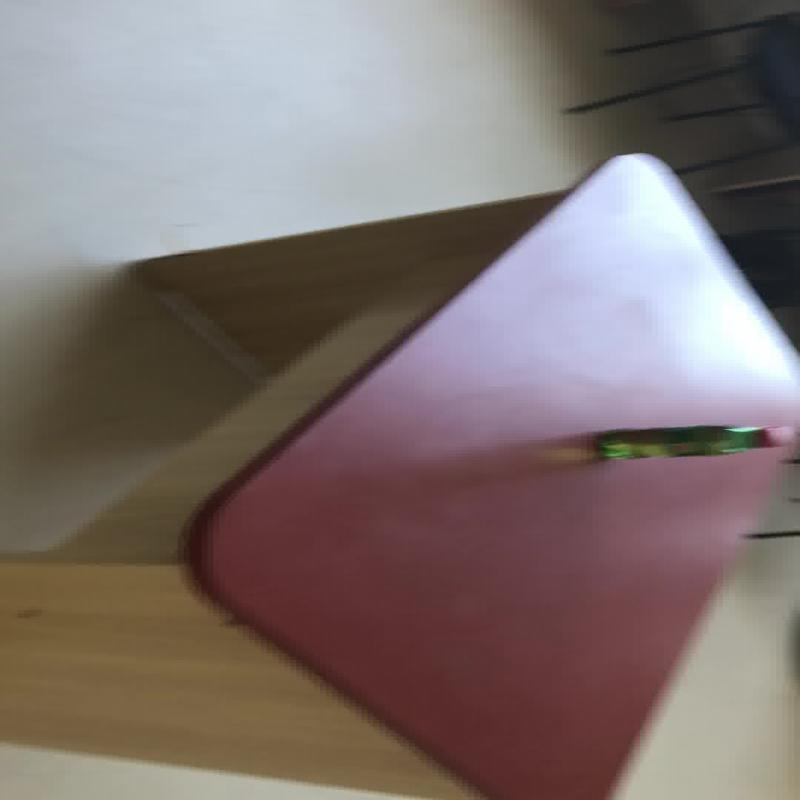guarana: (174, 151, 796, 798), (590, 422, 794, 461)
